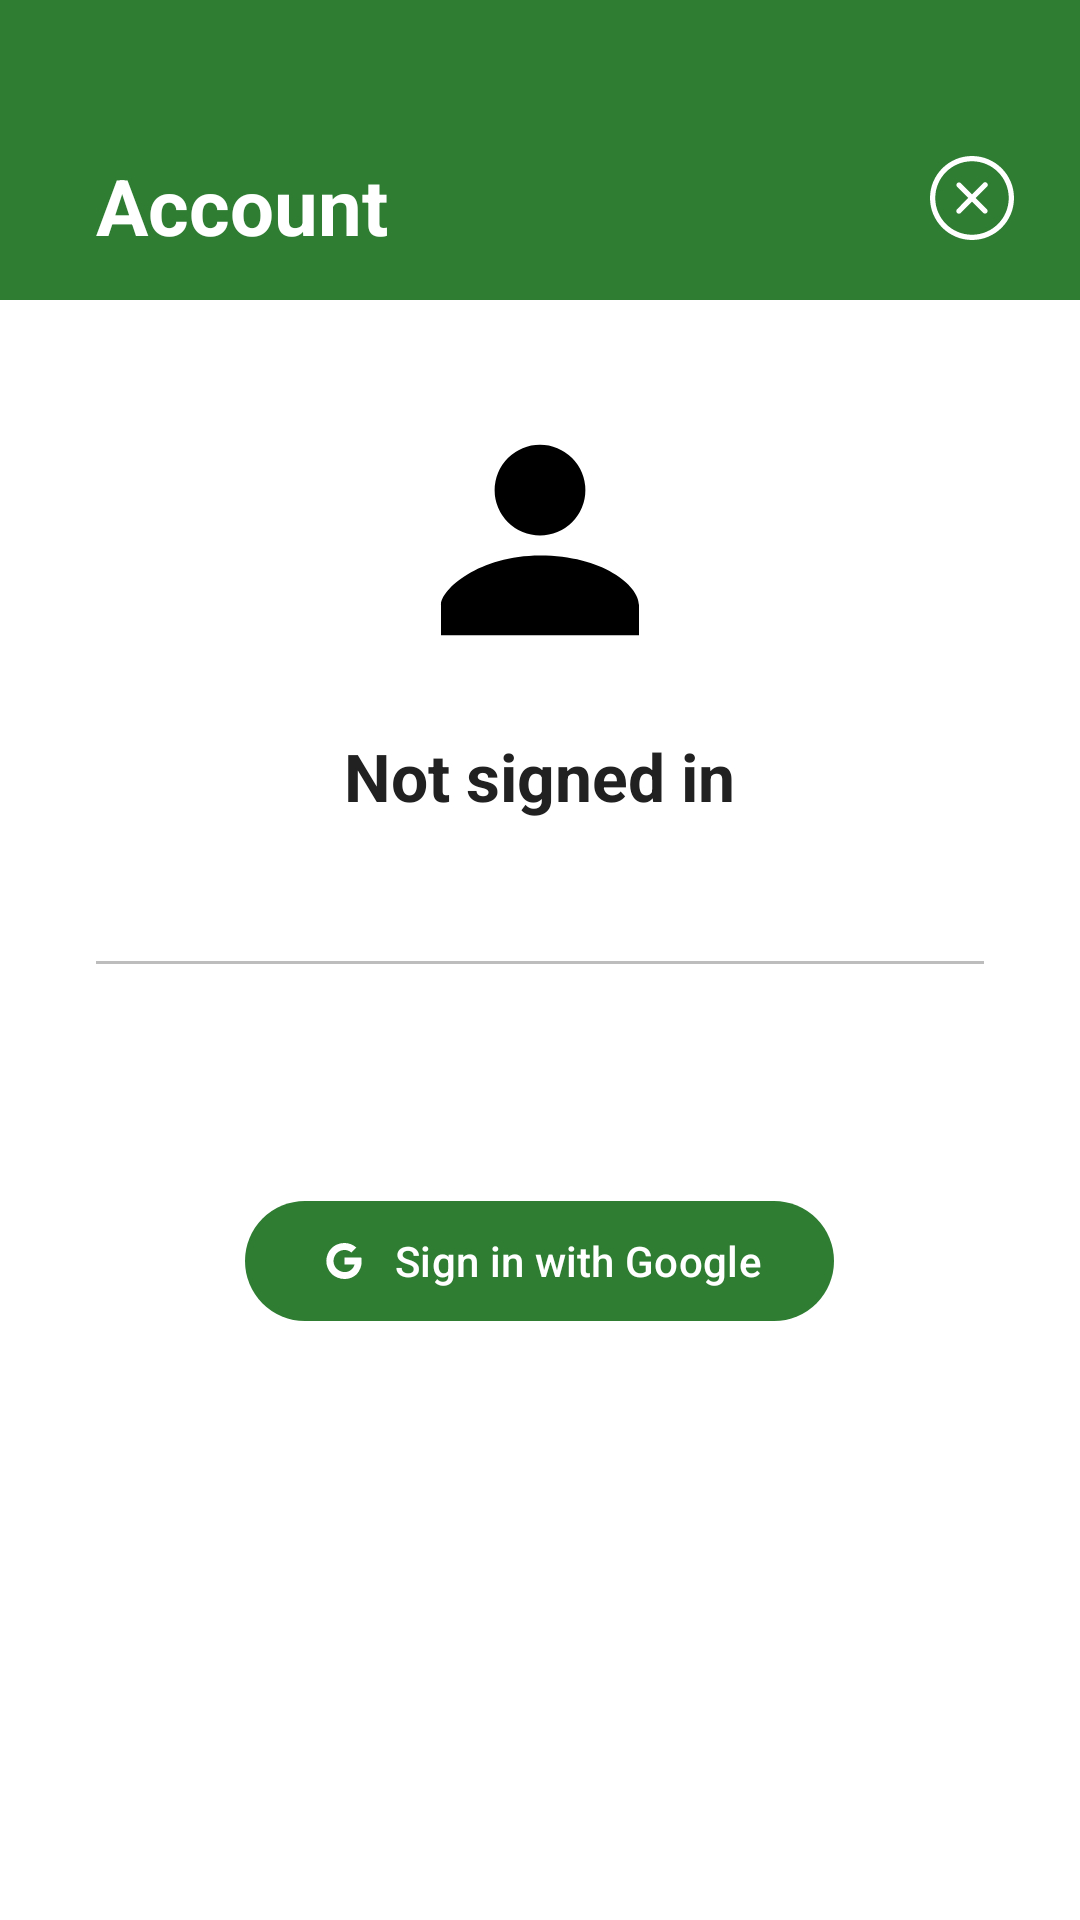

Point at icon controls on the screen. Image size 1080x1920, points as point (x, y).
Close: point (972, 198)
person placholder: point (540, 540)
